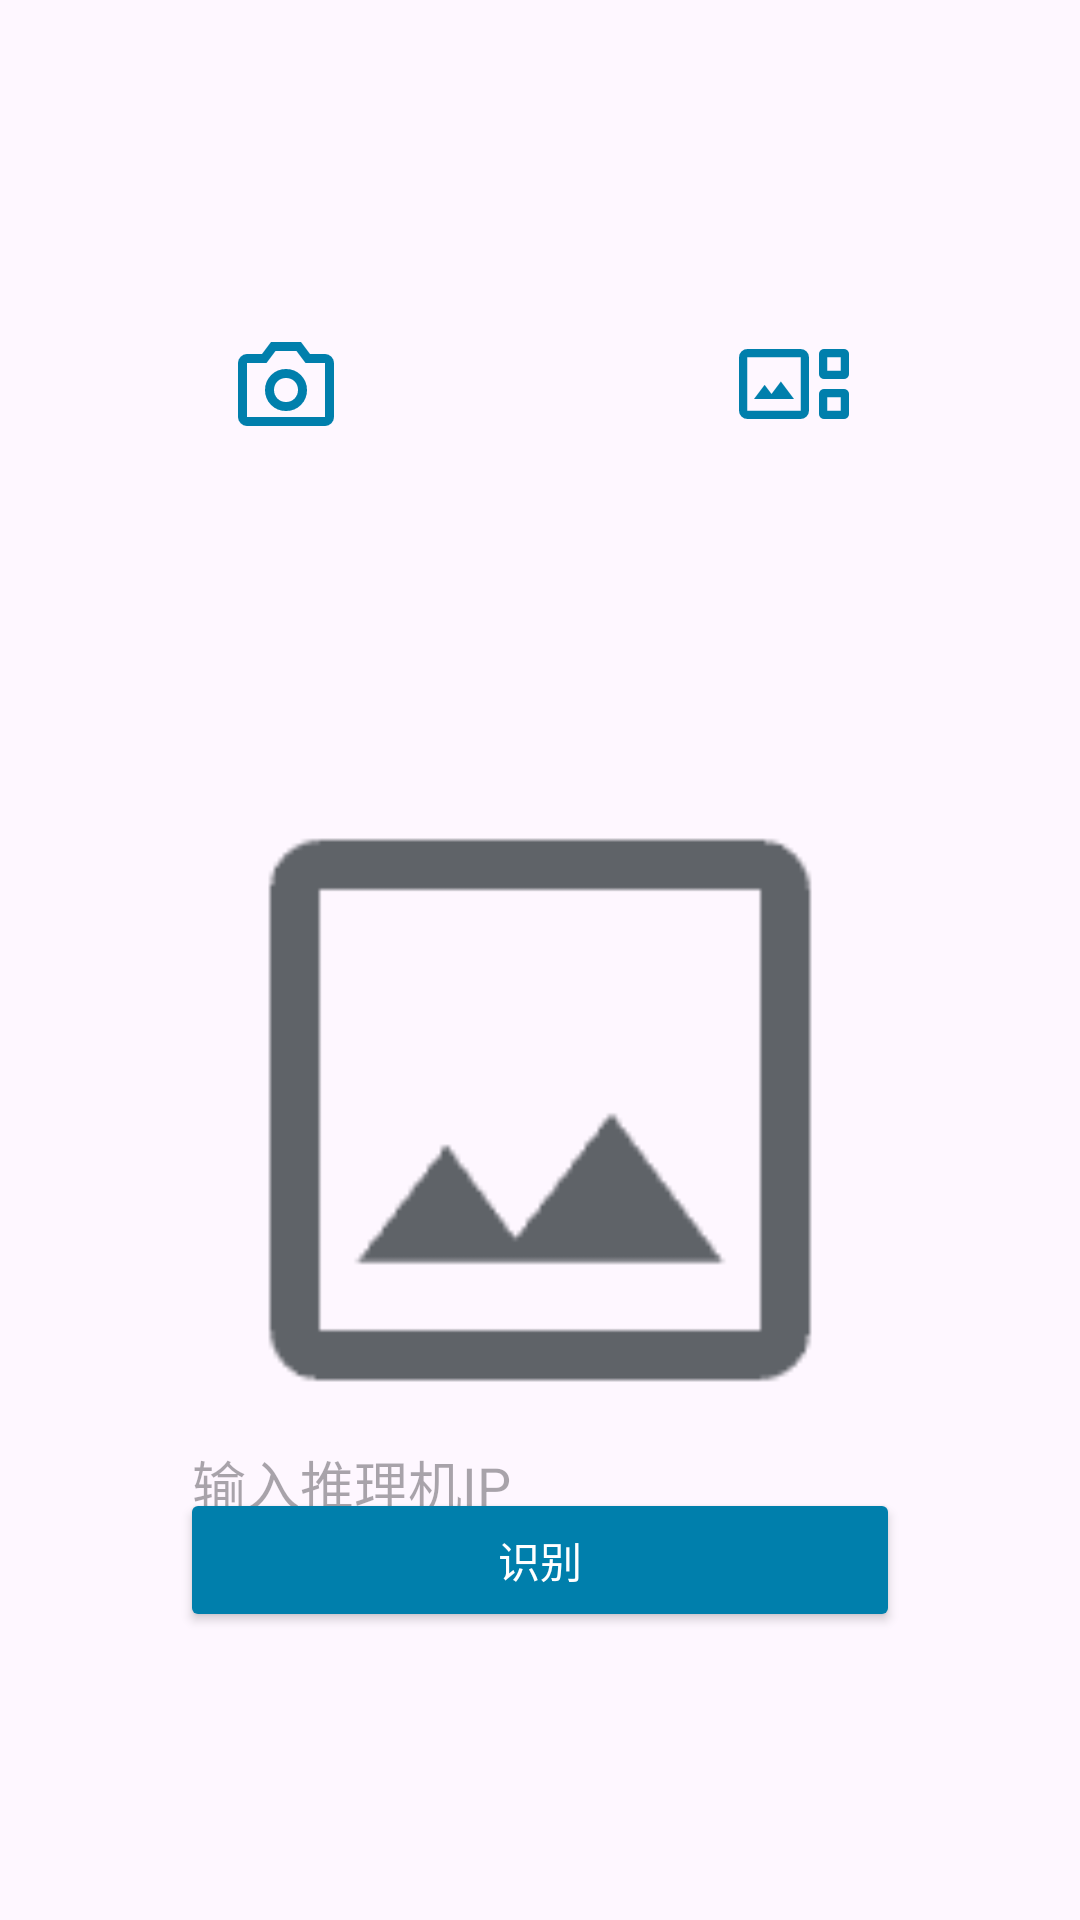

Icons on this 1080x1920 Android screen, each with the point to tap as (x=x, y=y):
Camera Button: (x=286, y=384)
Gallery Button: (x=794, y=384)
